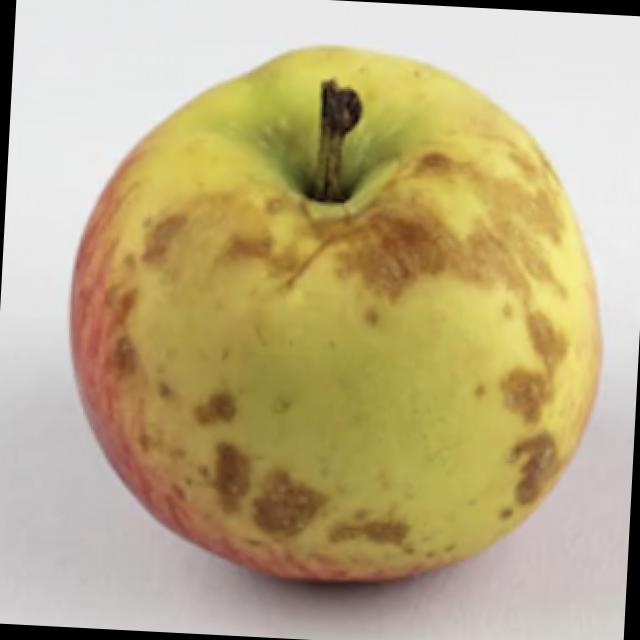rotten_apple: (56, 36, 620, 610)
